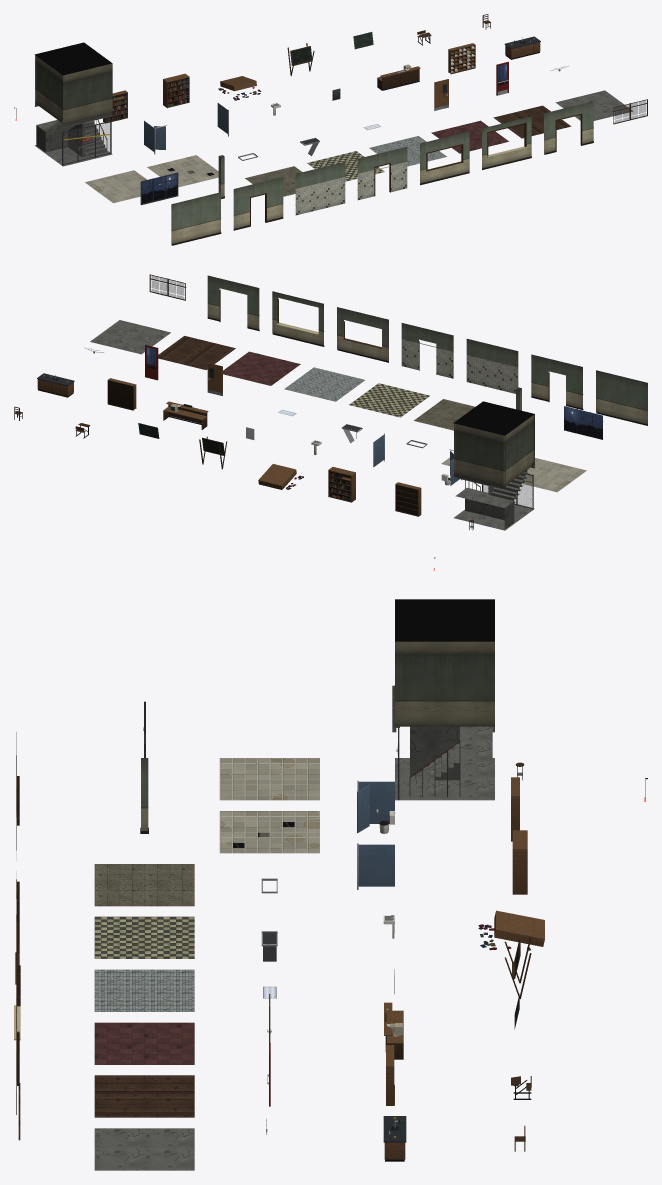
Rendered from school_kit.glb.
3 views of the same model, one above another, from view 1: azimuth 30°, elevation 25°; view 2: azimuth 150°, elevation 25°; view 3: azimuth 270°, elevation 25° (orthographic). The views are drawn at different scales.
Visible parts, largest first — view 1: stairwell_set, wall_face_tiled, wall_face, wall_face_door_tiled, wall_face_door, wall_face_window, wall_face_entrance, wall_face_ext_window, ceiling_tile_damaged, ceiling_tile, floor_concrete, floor_carpet (+16 smaller); view 2: stairwell_set, wall_face_tiled, wall_face, wall_face_door_tiled, wall_face_door, wall_face_window, floor_chequer, floor_tiles, floor_carpet, floor_concrete, floor_boards, wall_face_entrance (+14 smaller); view 3: stairwell_set, floor_boards, floor_concrete, ceiling_tile, ceiling_tile_damaged, floor_carpet, floor_chequer, floor_lino, floor_tiles, toilet_stall, bookshelf_toppled, toilet_stall_end (+3 smaller).
Part boxes in pixels (x1,y1,x2,y2): stairwell_set: (34,42,112,166); wall_face_tiled: (295,162,345,215); wall_face: (171,192,221,245); wall_face_door_tiled: (357,147,407,200); wall_face_door: (233,177,283,230); wall_face_window: (420,131,469,185); wall_face_entrance: (544,101,593,154); wall_face_ext_window: (482,116,531,169); ceiling_tile_damaged: (147,155,218,187); ceiling_tile: (85,170,146,203); floor_concrete: (555,90,632,120); floor_carpet: (431,120,508,153); stairwell_set: (453,401,535,530); wall_face_tiled: (466,339,518,393); wall_face: (596,370,647,425); wall_face_door_tiled: (401,323,453,378); wall_face_door: (531,354,583,409); wall_face_window: (337,307,388,362); floor_chequer: (349,383,429,417); floor_tiles: (284,367,364,401); floor_carpet: (223,351,300,385); floor_concrete: (90,320,170,354); floor_boards: (158,336,235,369); wall_face_entrance: (207,275,259,331); stairwell_set: (392,599,494,800); floor_boards: (94,1075,194,1117); floor_concrete: (94,1128,194,1170); ceiling_tile: (219,758,319,800); ceiling_tile_damaged: (219,811,319,853); floor_carpet: (94,1022,194,1064); floor_chequer: (94,916,194,958); floor_lino: (94,864,194,906); floor_tiles: (94,969,194,1011); toilet_stall: (357,780,395,833); bookshelf_toppled: (478,910,544,950); toilet_stall_end: (357,843,394,889).
Size of the model in its own units: 39 by 8.05 by 25.33.
Materials: 26 (24 with a texture image).
